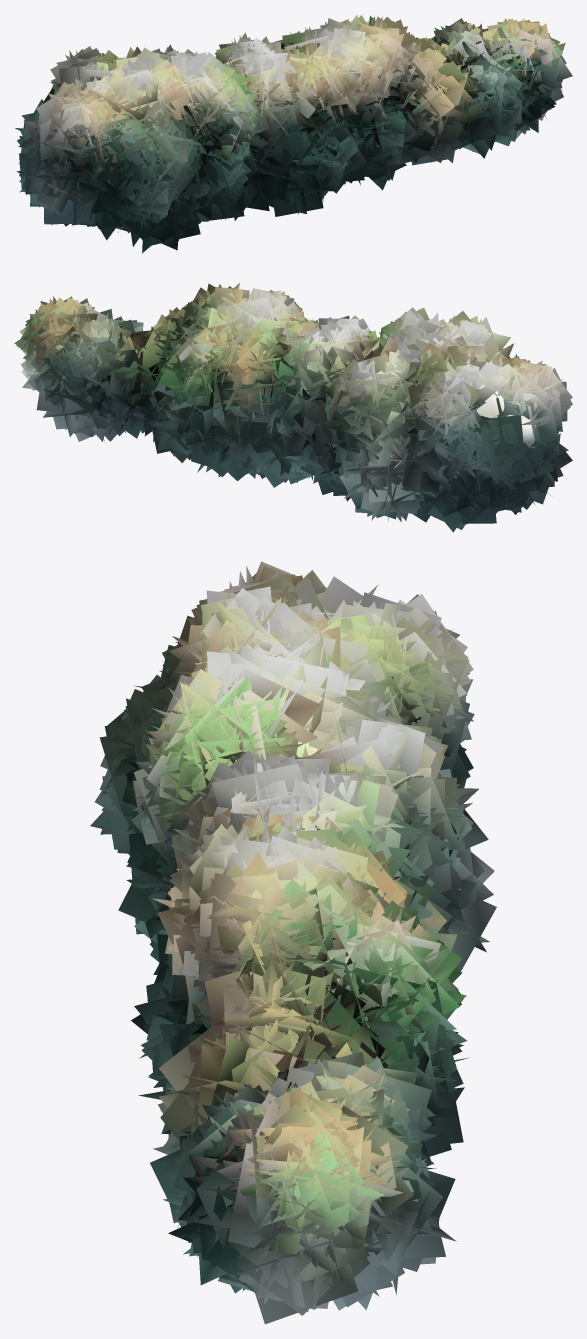
Rendered from JP_Bush_Detailed.fbx.
3 renders of one model, top to bottom at view 1: azimuth 30°, elevation 25°; view 2: azimuth 150°, elevation 25°; view 3: azimuth 270°, elevation 25°, orthographic. The views are drawn at different scales.
Visible parts, largest first — view 1: JP_Bush_Detailed_LOD0; view 2: JP_Bush_Detailed_LOD0, JP_Bush_Detailed_Base_LOD0; view 3: JP_Bush_Detailed_LOD0.
Part boxes in pixels (bbox=[...]): JP_Bush_Detailed_LOD0: bbox=[15, 15, 572, 253]; JP_Bush_Detailed_LOD0: bbox=[14, 283, 572, 532]; JP_Bush_Detailed_Base_LOD0: bbox=[91, 380, 535, 500]; JP_Bush_Detailed_LOD0: bbox=[90, 561, 496, 1324].
Size of what is drawn, in the model's own units: 1789 by 610 by 586.
